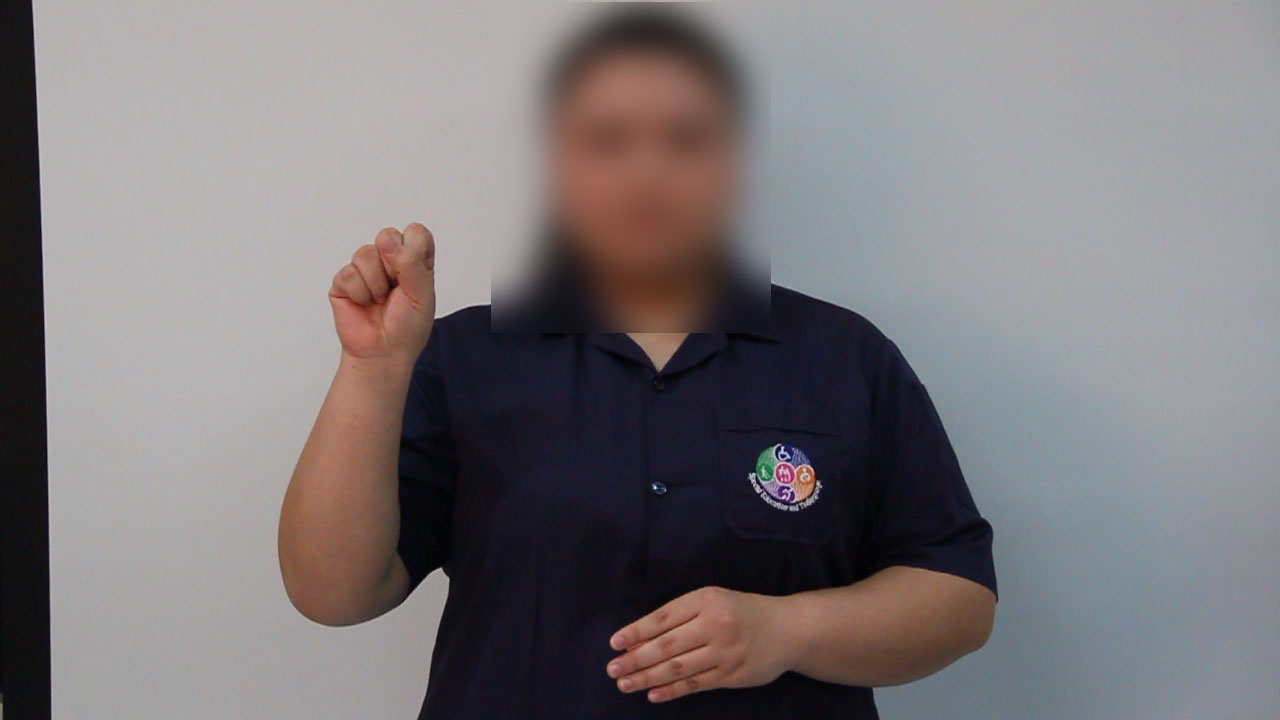sor: (316, 219, 450, 369)
